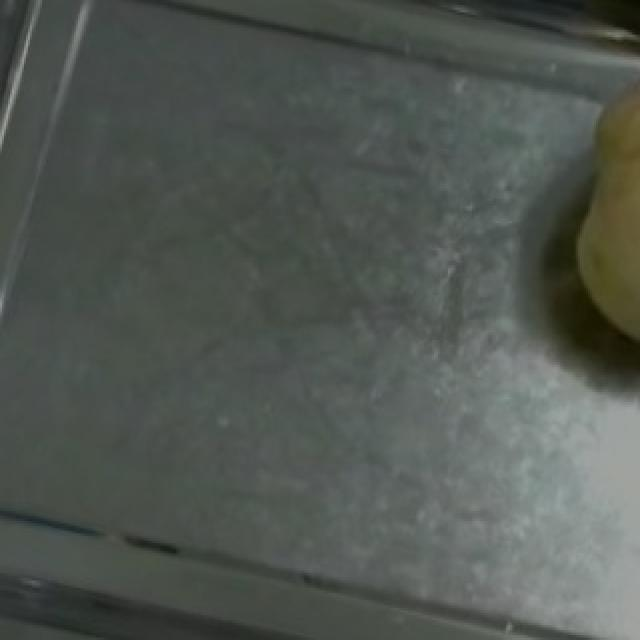Fruit: (544, 57, 640, 372)
